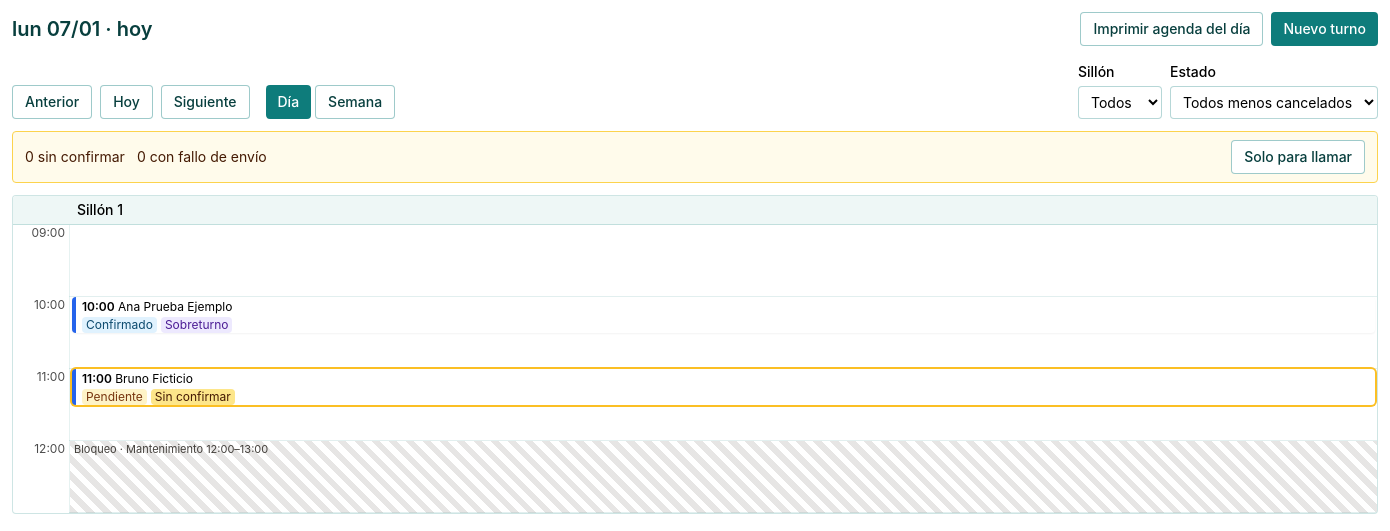
AgendaPage › distingue sobreturno, bloqueo y pendiente próximo; oculta cancelados por defecto
The image size is (1390, 531).
Expected: the text "Sobreturno" is shown, [161,317,232,333]
Expected: the text "Sin confirmar" is shown, [151,389,235,405]
Select "Cancelado" in the dropdown labelled "Estado" at coordinates (1274, 102), box [1170,86,1378,119]
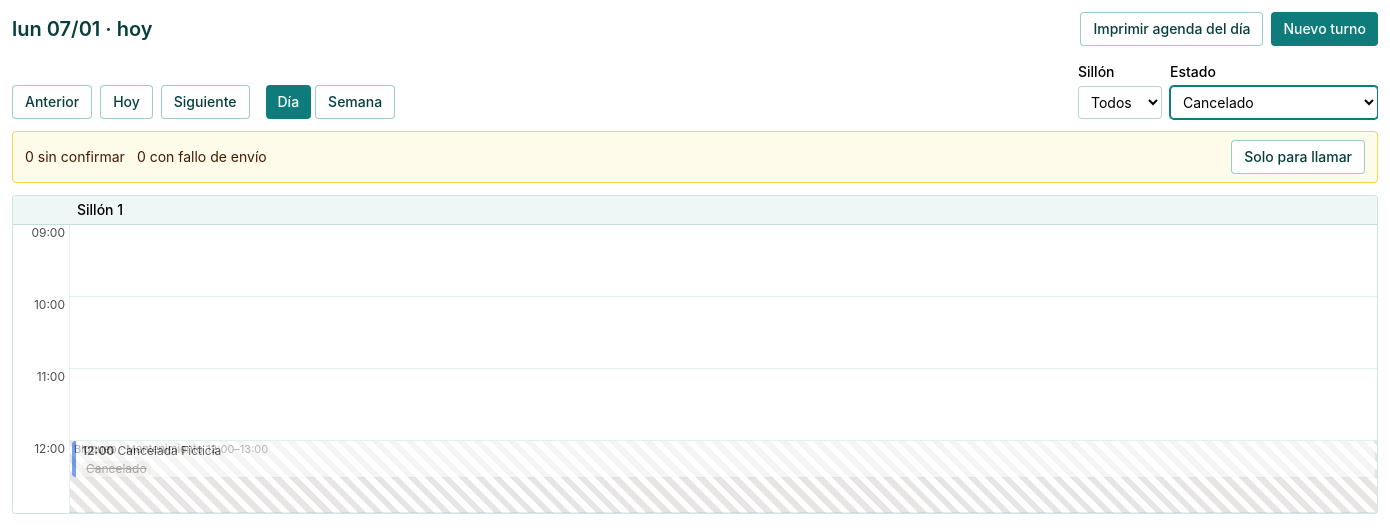
Result: the button "12:00 Cancelada Ficticia Cancelado" is shown at [72,441,1375,477]
